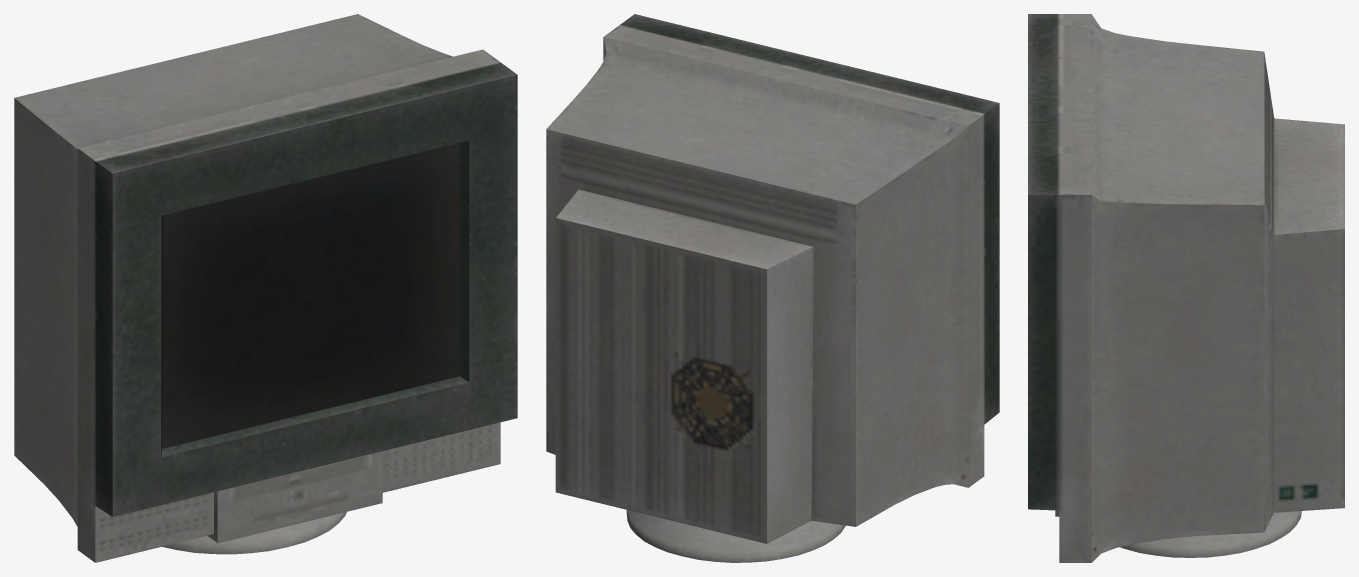
File: 032_commissionerpc.fbx
The picture shows the model from 3 angles, left to right: view 1: azimuth 30°, elevation 25°; view 2: azimuth 150°, elevation 25°; view 3: azimuth 270°, elevation 25°; orthographic projection. The views are drawn at different scales.
Visible parts, largest first — view 1: LOD_1_Group_0_Sub_1__sm31_032_CommissionerPc01A_A_Mat, LOD_1_Group_1_Sub_1__sm31_032_CommissionerPc01A_A_Mat; view 2: LOD_1_Group_0_Sub_1__sm31_032_CommissionerPc01A_A_Mat, LOD_1_Group_1_Sub_1__sm31_032_CommissionerPc01A_A_Mat; view 3: LOD_1_Group_0_Sub_1__sm31_032_CommissionerPc01A_A_Mat, LOD_1_Group_1_Sub_1__sm31_032_CommissionerPc01A_A_Mat.
Part boxes in pixels (x1,y1,x2,y2): LOD_1_Group_0_Sub_1__sm31_032_CommissionerPc01A_A_Mat: [14, 14, 517, 562]; LOD_1_Group_1_Sub_1__sm31_032_CommissionerPc01A_A_Mat: [162, 512, 346, 554]; LOD_1_Group_0_Sub_1__sm31_032_CommissionerPc01A_A_Mat: [546, 14, 999, 543]; LOD_1_Group_1_Sub_1__sm31_032_CommissionerPc01A_A_Mat: [626, 510, 845, 562]; LOD_1_Group_0_Sub_1__sm31_032_CommissionerPc01A_A_Mat: [1028, 14, 1344, 562]; LOD_1_Group_1_Sub_1__sm31_032_CommissionerPc01A_A_Mat: [1120, 511, 1301, 557].
Size of the model in its own units: 0.4797 by 0.5015 by 0.3549.
